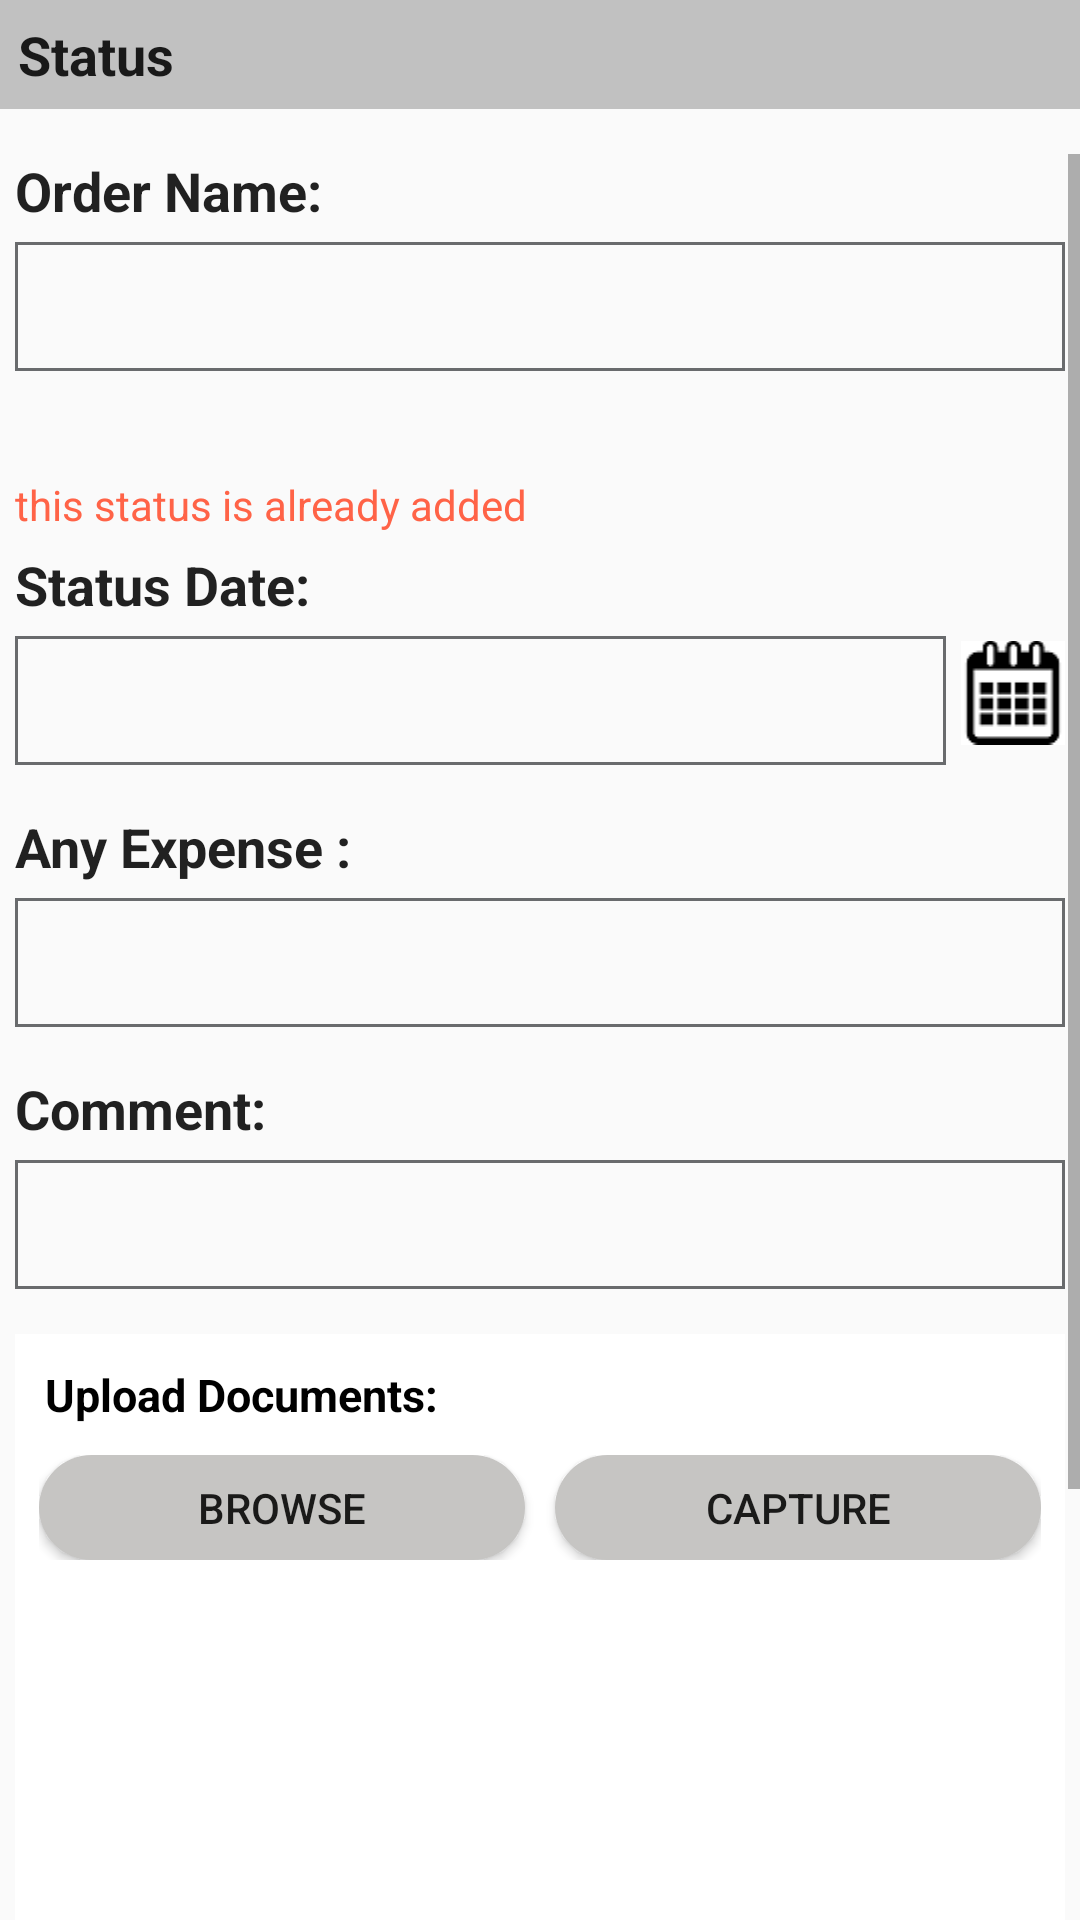

Locate icon controls on the screen. Image size 1080px×1920px, boxes as region(x1, y1, x2, y2).
cal: region(966, 641, 1060, 745)
